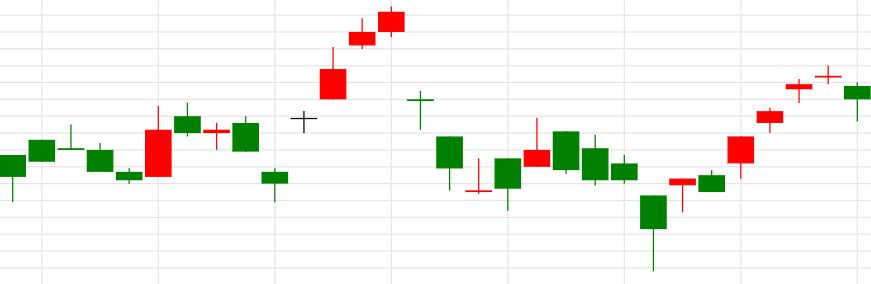hammer_rise: (553, 132, 667, 271)
